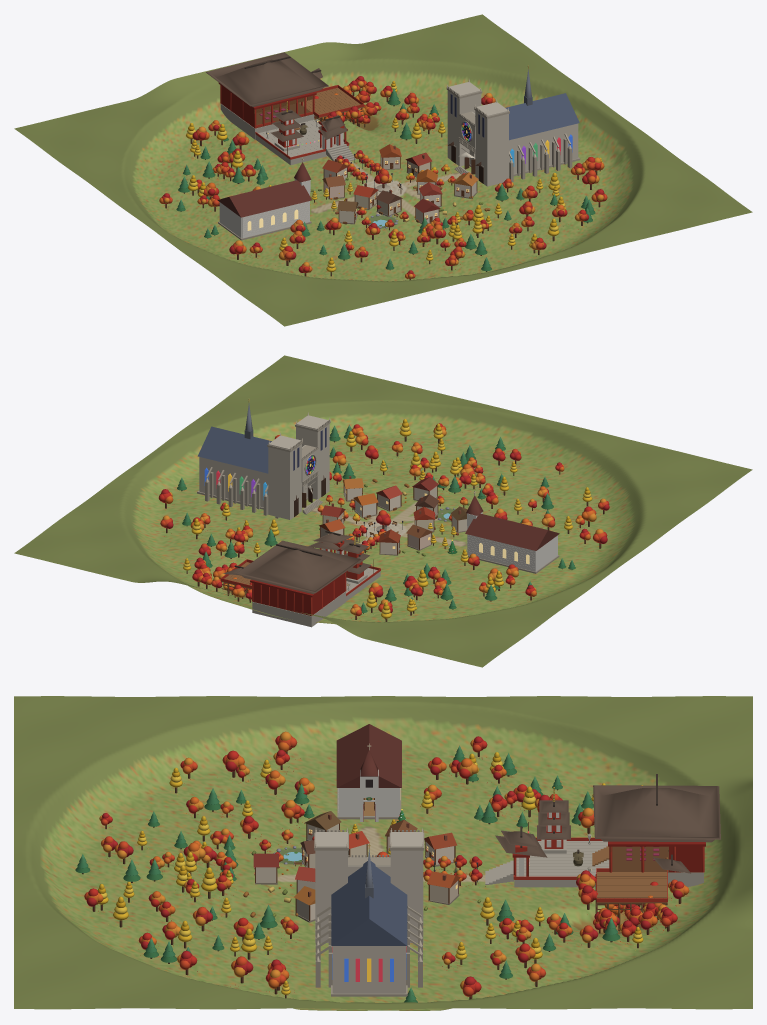
Rendered from village.glb.
3 renders of one model, top to bottom at view 1: azimuth 30°, elevation 25°; view 2: azimuth 150°, elevation 25°; view 3: azimuth 270°, elevation 25°, orthographic. The views are drawn at different scales.
Parts seen in each view (by area): view 1: terrain, nature, cathedral, temple, temple_roof, church, cathedral_roof, church_roof, house_bear, house_squirrel; view 2: terrain, nature, cathedral, temple, temple_roof, church, cathedral_roof, church_roof, house_fox; view 3: terrain, nature, temple, cathedral, temple_roof, cathedral_roof, church_roof, church, house_lion, house_panda, house_deer, house_squirrel (+1 smaller).
Part boxes in pixels (x1=…): terrain: x1=14, y1=14, x2=752, y2=326; nature: x1=159, y1=76, x2=607, y2=279; cathedral: x1=446, y1=79, x2=580, y2=186; temple: x1=220, y1=85, x2=364, y2=165; temple_roof: x1=206, y1=52, x2=329, y2=109; church: x1=218, y1=157, x2=311, y2=240; cathedral_roof: x1=505, y1=65, x2=579, y2=140; church_roof: x1=217, y1=180, x2=311, y2=217; house_bear: x1=375, y1=190, x2=402, y2=216; house_squirrel: x1=453, y1=172, x2=478, y2=198; terrain: x1=14, y1=355, x2=752, y2=667; nature: x1=158, y1=419, x2=609, y2=621; cathedral: x1=197, y1=412, x2=330, y2=519; temple: x1=220, y1=530, x2=380, y2=627; temple_roof: x1=223, y1=540, x2=362, y2=597; church: x1=447, y1=491, x2=559, y2=573; cathedral_roof: x1=197, y1=399, x2=271, y2=473; church_roof: x1=465, y1=513, x2=559, y2=550; house_fox: x1=376, y1=485, x2=402, y2=511; terrain: x1=14, y1=696, x2=752, y2=1010; nature: x1=75, y1=731, x2=689, y2=1002; temple: x1=485, y1=787, x2=704, y2=931; cathedral: x1=314, y1=828, x2=424, y2=996; temple_roof: x1=593, y1=774, x2=720, y2=873; cathedral_roof: x1=331, y1=843, x2=407, y2=945; church_roof: x1=336, y1=724, x2=401, y2=787; church: x1=337, y1=743, x2=405, y2=822; house_lion: x1=427, y1=871, x2=460, y2=904; house_panda: x1=424, y1=832, x2=457, y2=866; house_deer: x1=253, y1=853, x2=278, y2=884; house_squirrel: x1=294, y1=886, x2=315, y2=922.
Size of the model in its own units: 104 by 22.94 by 104.
